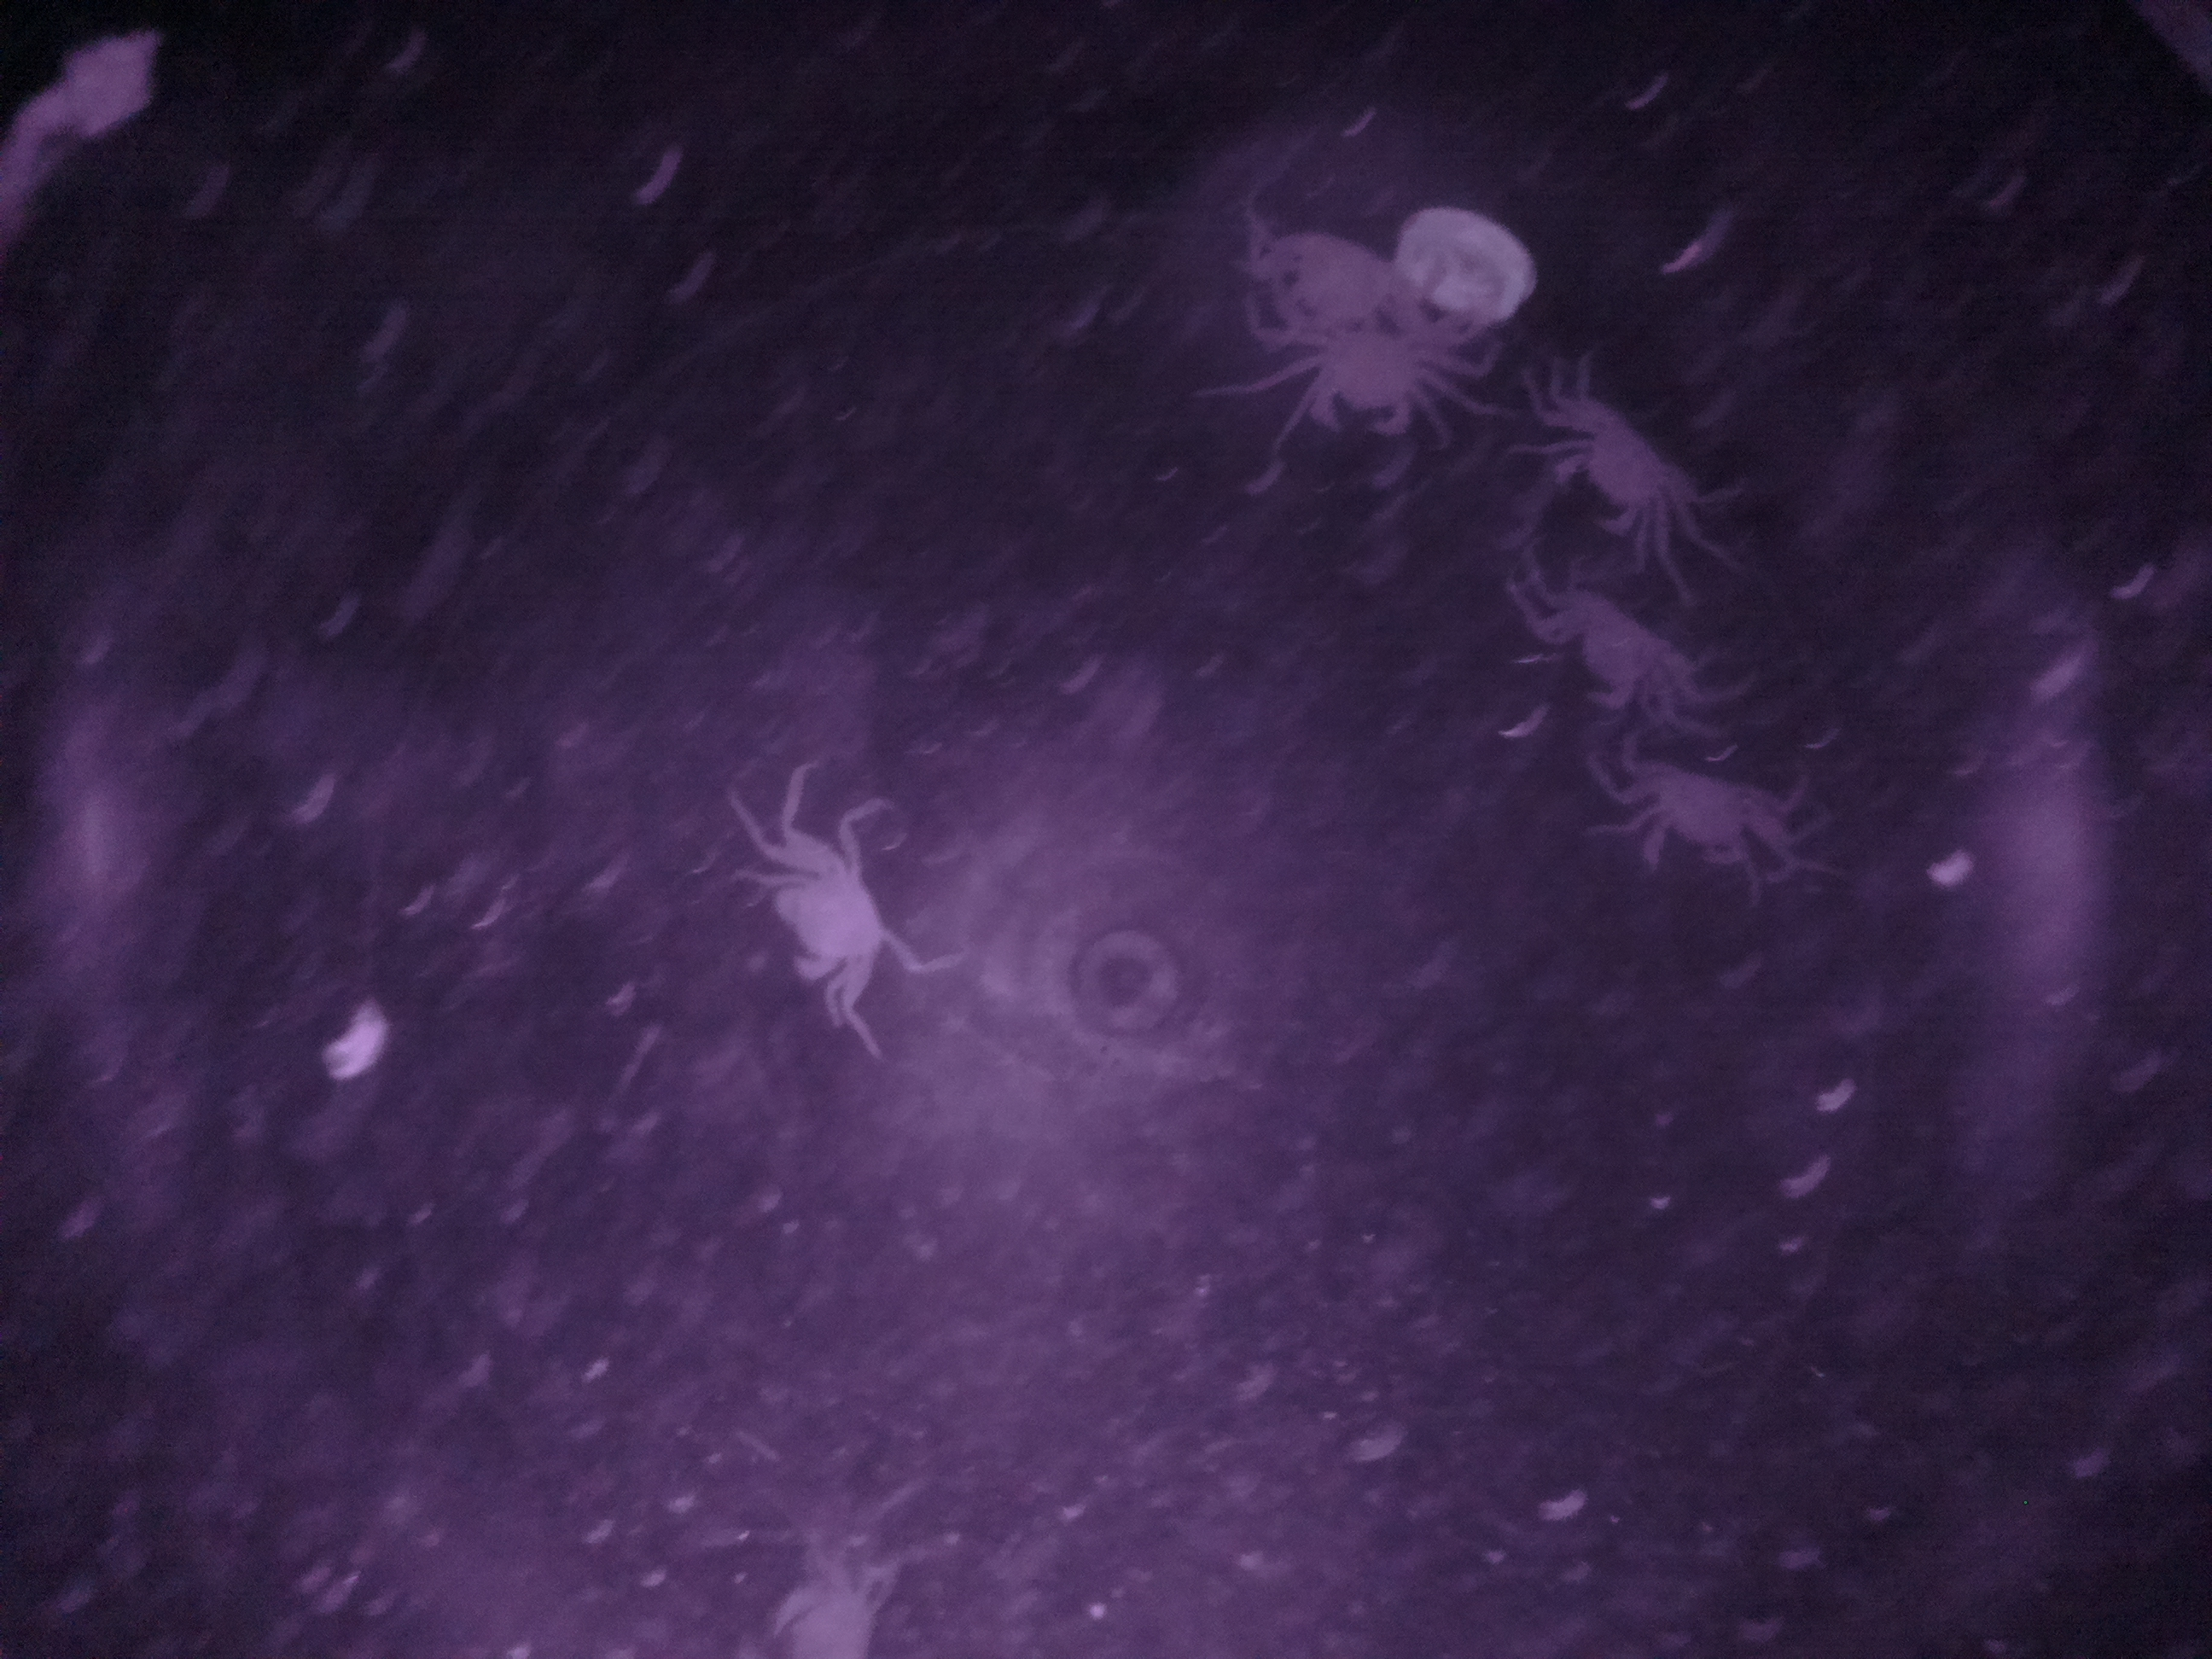Crab: (1602, 725, 1836, 904), (749, 796, 914, 1033), (1526, 382, 1707, 551)
